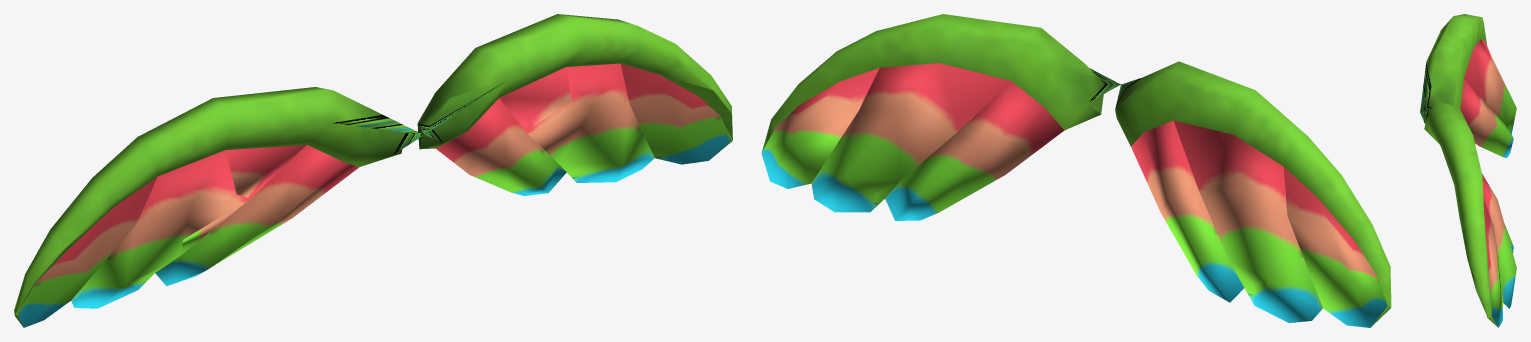
The model's file is wings-0_toy_story_3_dragon.blend.obj.
The picture shows the model from 3 angles, left to right: view 1: azimuth 30°, elevation 25°; view 2: azimuth 150°, elevation 25°; view 3: azimuth 270°, elevation 25°; orthographic projection. The views are drawn at different scales.
Parts seen in each view (by area): view 1: wings-0_toy_story_3_dragon.blend_dragon_wii_png.005; view 2: wings-0_toy_story_3_dragon.blend_dragon_wii_png.005; view 3: wings-0_toy_story_3_dragon.blend_dragon_wii_png.005.
Part boxes in pixels (left/top/right/bottom): wings-0_toy_story_3_dragon.blend_dragon_wii_png.005: left=14, top=14, right=732, bottom=327; wings-0_toy_story_3_dragon.blend_dragon_wii_png.005: left=761, top=14, right=1391, bottom=327; wings-0_toy_story_3_dragon.blend_dragon_wii_png.005: left=1420, top=14, right=1516, bottom=327.
Bounding box in the file's own units: 3.59 × 1.03 × 0.6204.
Materials: 1 (1 with a texture image).
